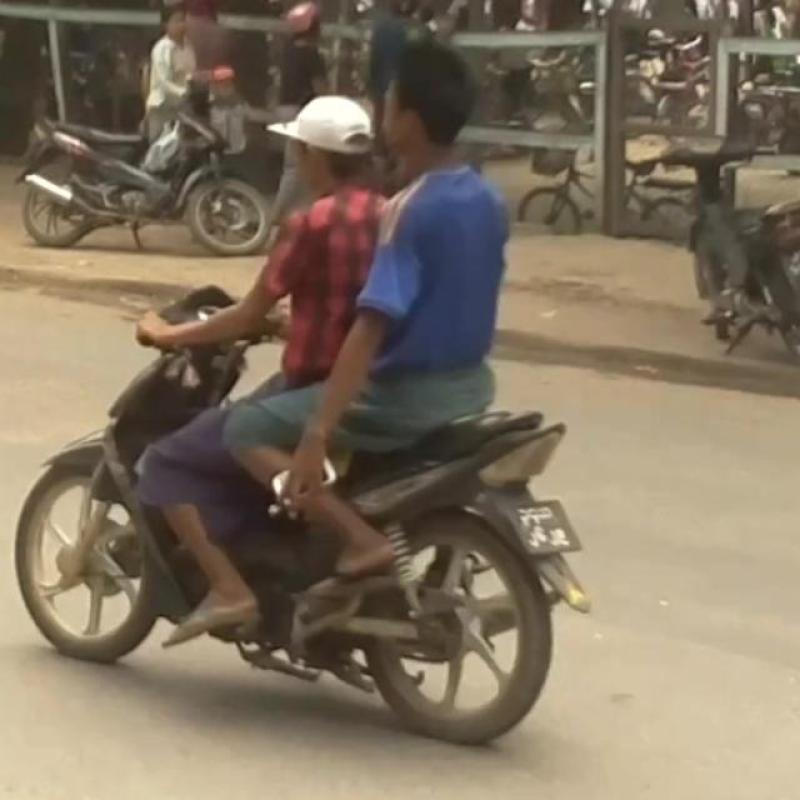nohelmet: (370, 38, 529, 176), (256, 70, 364, 180)
